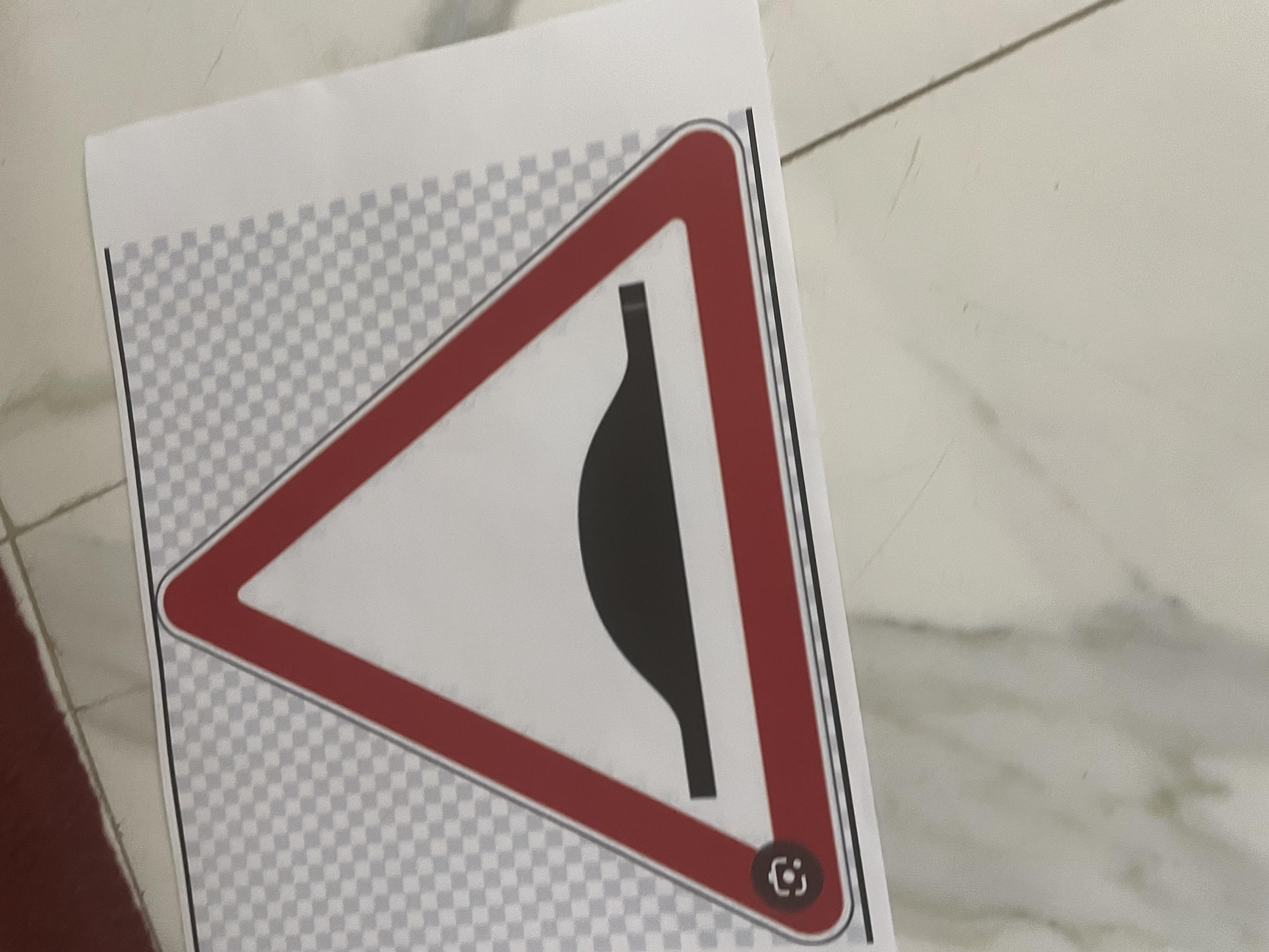Hump: (12, 111, 1134, 653)
